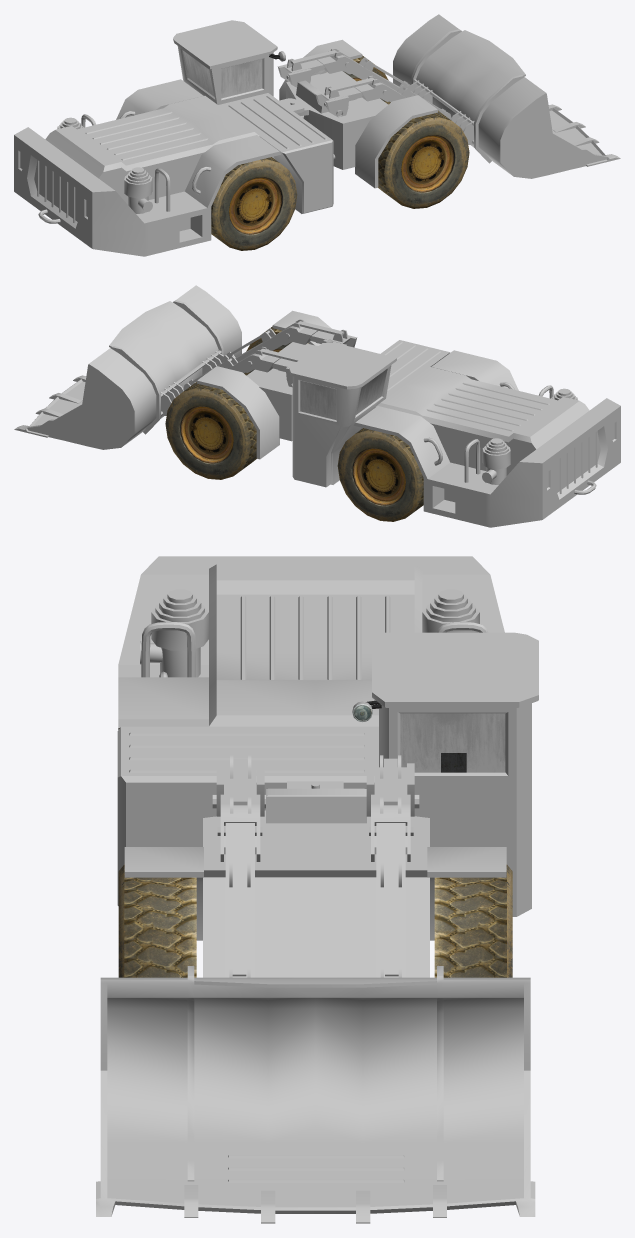
File: front_loader_export.dae
The picture shows the model from 3 angles, top to bottom: view 1: azimuth 30°, elevation 25°; view 2: azimuth 150°, elevation 25°; view 3: azimuth 270°, elevation 25°; orthographic projection. The views are drawn at different scales.
Parts seen in each view (by area): view 1: body, loading_shovel, front_body, wheels_front, wheels, shovel_bone2, shovel_bone1; view 2: body, loading_shovel, wheels_front, wheels, front_body, shovel_bone2, shovel_bone1; view 3: body, loading_shovel, front_body, wheels_front, shovel_bone1, shovel_bone2.
Part boxes in pixels (bbox=[...]): body: bbox=[14, 20, 335, 256]; loading_shovel: bbox=[393, 14, 620, 178]; front_body: bbox=[279, 39, 437, 188]; wheels_front: bbox=[343, 55, 469, 208]; wheels: bbox=[211, 157, 297, 250]; shovel_bone2: bbox=[277, 48, 399, 117]; shovel_bone1: bbox=[346, 56, 451, 119]; body: bbox=[289, 339, 620, 527]; loading_shovel: bbox=[14, 285, 241, 449]; wheels_front: bbox=[165, 326, 308, 479]; wheels: bbox=[337, 428, 423, 521]; front_body: bbox=[197, 310, 331, 459]; shovel_bone2: bbox=[235, 319, 357, 387]; shovel_bone1: bbox=[183, 327, 288, 390]; body: bbox=[117, 556, 538, 916]; loading_shovel: bbox=[96, 966, 535, 1223]; front_body: bbox=[124, 788, 506, 977]; wheels_front: bbox=[118, 864, 512, 977]; shovel_bone1: bbox=[225, 823, 405, 977]; shovel_bone2: bbox=[216, 755, 414, 861].
Size of the model in its own units: 8.5 by 2.05 by 3.07.
